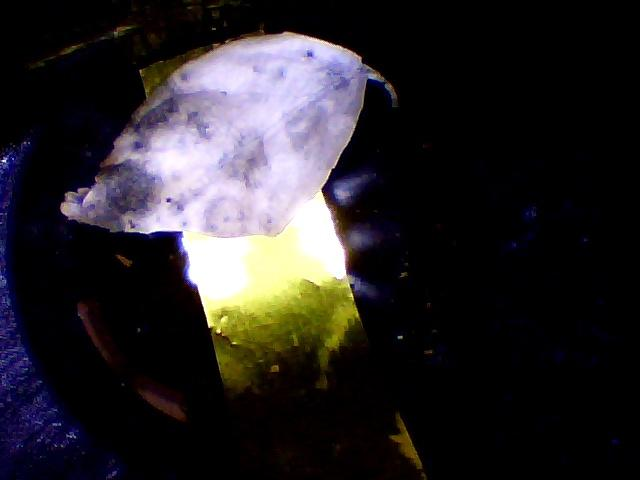feuille: (52, 23, 411, 254)
